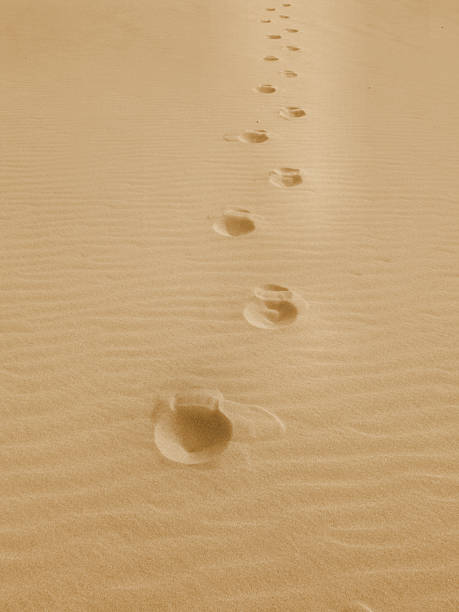animal_footprint: (153, 387, 284, 464), (244, 284, 305, 328), (213, 208, 255, 236), (269, 167, 302, 187), (224, 129, 268, 143), (239, 129, 268, 143), (280, 106, 305, 118), (255, 84, 276, 93), (281, 69, 297, 77), (263, 55, 278, 61), (286, 45, 299, 51), (267, 34, 281, 39), (285, 28, 298, 32), (266, 7, 275, 11), (260, 19, 270, 22), (279, 15, 289, 18), (282, 3, 290, 6)
